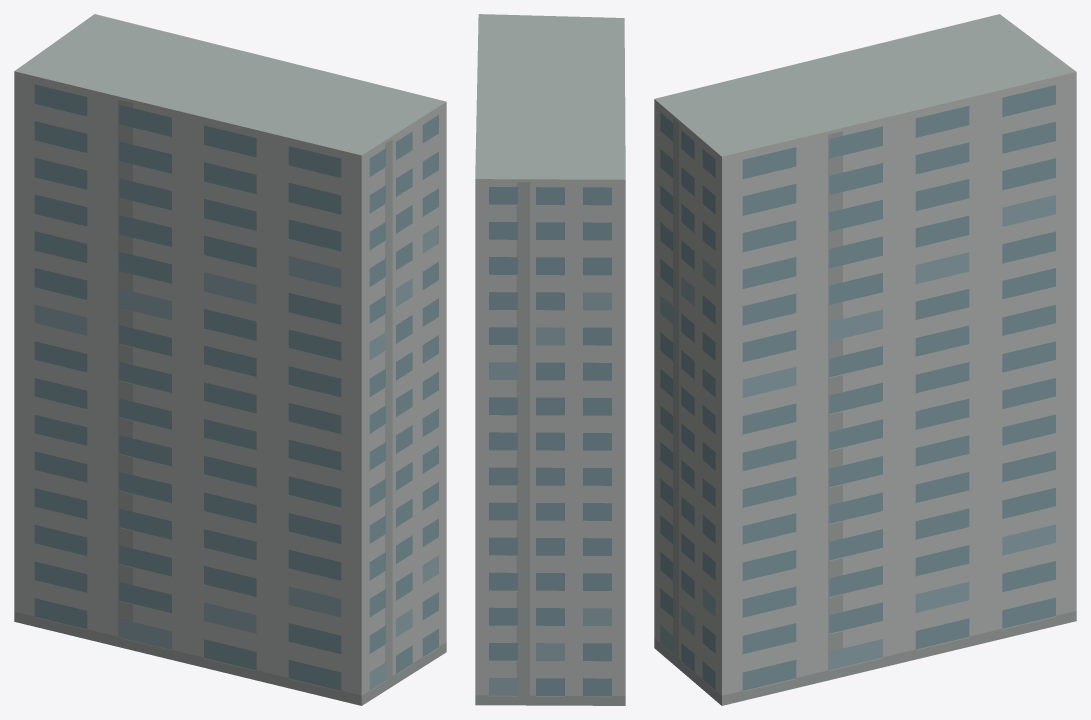
Rendered from residential-9030616f-cad8-4b67-a2e2-dcdaec281605.glb.
The picture shows the model from 3 angles, left to right: view 1: azimuth 30°, elevation 25°; view 2: azimuth 150°, elevation 25°; view 3: azimuth 270°, elevation 25°; orthographic projection. The views are drawn at different scales.
Visible parts, largest first — view 1: residential-9030616f-cad8-4b67-a2e2-dcdaec281605.tmp; view 2: residential-9030616f-cad8-4b67-a2e2-dcdaec281605.tmp; view 3: residential-9030616f-cad8-4b67-a2e2-dcdaec281605.tmp.
Boxes of the visible parts, x1,y1,x2,y2 form: residential-9030616f-cad8-4b67-a2e2-dcdaec281605.tmp: (14,14,446,705); residential-9030616f-cad8-4b67-a2e2-dcdaec281605.tmp: (475,14,625,705); residential-9030616f-cad8-4b67-a2e2-dcdaec281605.tmp: (654,14,1076,705).
Bounding box in the file's own units: 23.42 × 42 × 29.29.
